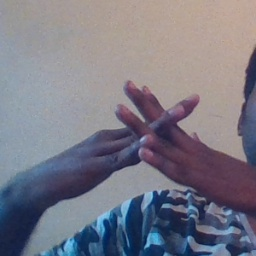W: (93, 63, 210, 205)
